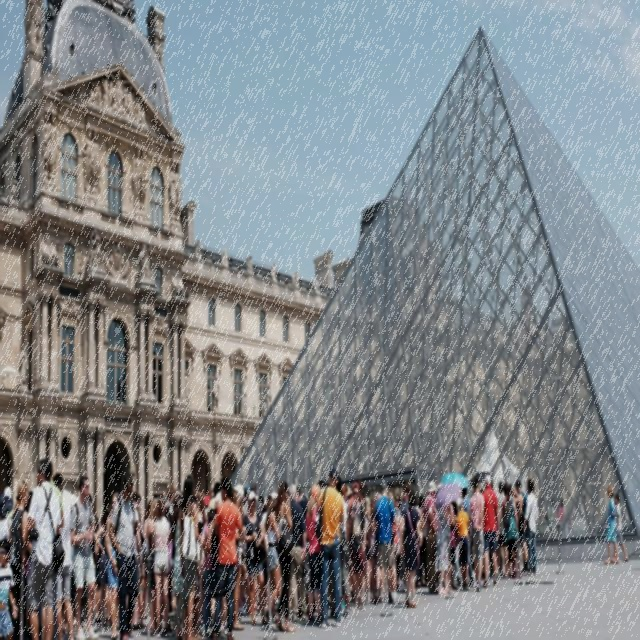pessoa: (3, 61, 193, 433), (194, 238, 322, 434), (20, 456, 66, 638), (208, 474, 244, 638), (108, 468, 141, 638), (68, 472, 101, 638), (314, 462, 346, 629), (40, 460, 66, 638), (240, 488, 270, 629), (8, 476, 34, 638), (178, 471, 202, 638), (51, 472, 75, 638), (368, 476, 398, 606), (272, 476, 296, 634), (150, 494, 174, 638), (287, 480, 310, 624), (59, 572, 108, 638), (399, 486, 423, 612), (346, 478, 368, 614), (305, 482, 325, 627), (401, 486, 425, 606), (198, 498, 218, 638), (262, 492, 282, 628), (193, 478, 210, 638), (104, 489, 122, 638), (419, 478, 441, 597), (146, 496, 164, 638), (481, 472, 501, 590), (94, 507, 112, 629), (335, 474, 350, 620), (468, 476, 486, 594), (501, 480, 522, 578), (130, 490, 144, 632), (235, 506, 250, 638), (388, 482, 404, 604), (0, 536, 19, 638), (138, 496, 152, 634), (434, 501, 454, 597), (522, 475, 540, 579), (502, 483, 520, 581), (342, 484, 356, 606), (363, 480, 376, 610), (460, 485, 476, 589), (170, 494, 186, 597), (22, 489, 33, 638), (608, 492, 630, 566), (602, 483, 621, 568), (514, 477, 530, 576), (536, 496, 568, 542), (164, 482, 173, 635), (448, 494, 462, 592), (456, 496, 470, 592), (497, 478, 509, 581), (259, 515, 270, 626), (447, 498, 459, 592), (88, 493, 102, 573), (510, 480, 521, 578), (418, 493, 428, 589), (0, 484, 15, 546), (208, 476, 222, 532), (414, 489, 421, 588), (231, 482, 258, 506), (274, 564, 284, 622), (480, 548, 494, 588), (258, 490, 278, 516), (327, 556, 335, 620), (296, 482, 310, 512), (434, 572, 447, 598), (316, 472, 330, 491), (376, 477, 382, 501), (436, 480, 444, 493), (469, 482, 476, 496), (286, 482, 290, 504), (480, 477, 484, 493)
